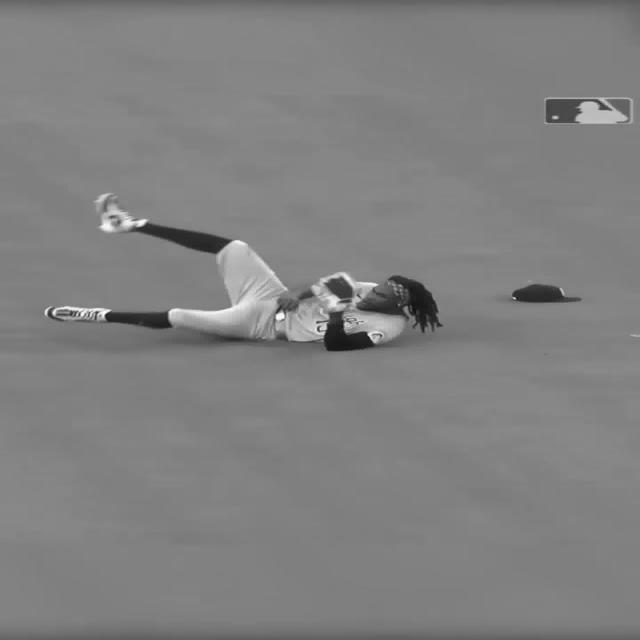baseball_glove: (311, 272, 364, 310)
shoe: (94, 196, 142, 238), (42, 306, 118, 326)
